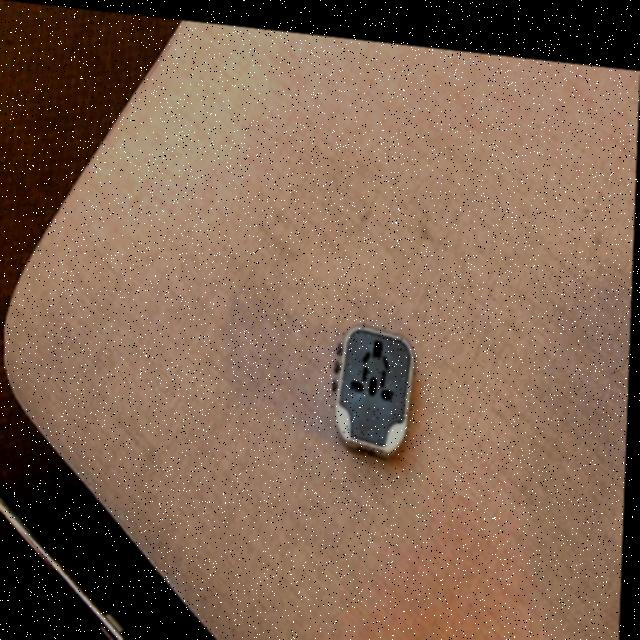adapter: (333, 311, 419, 450)
